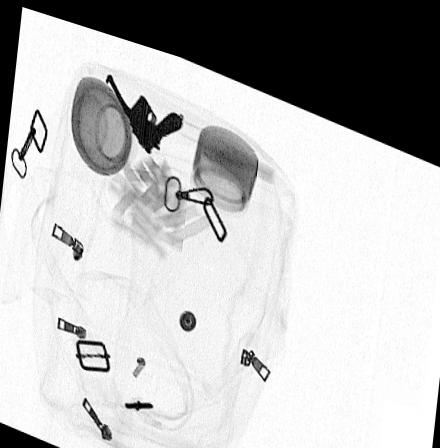Gun: (106, 65, 182, 144)
